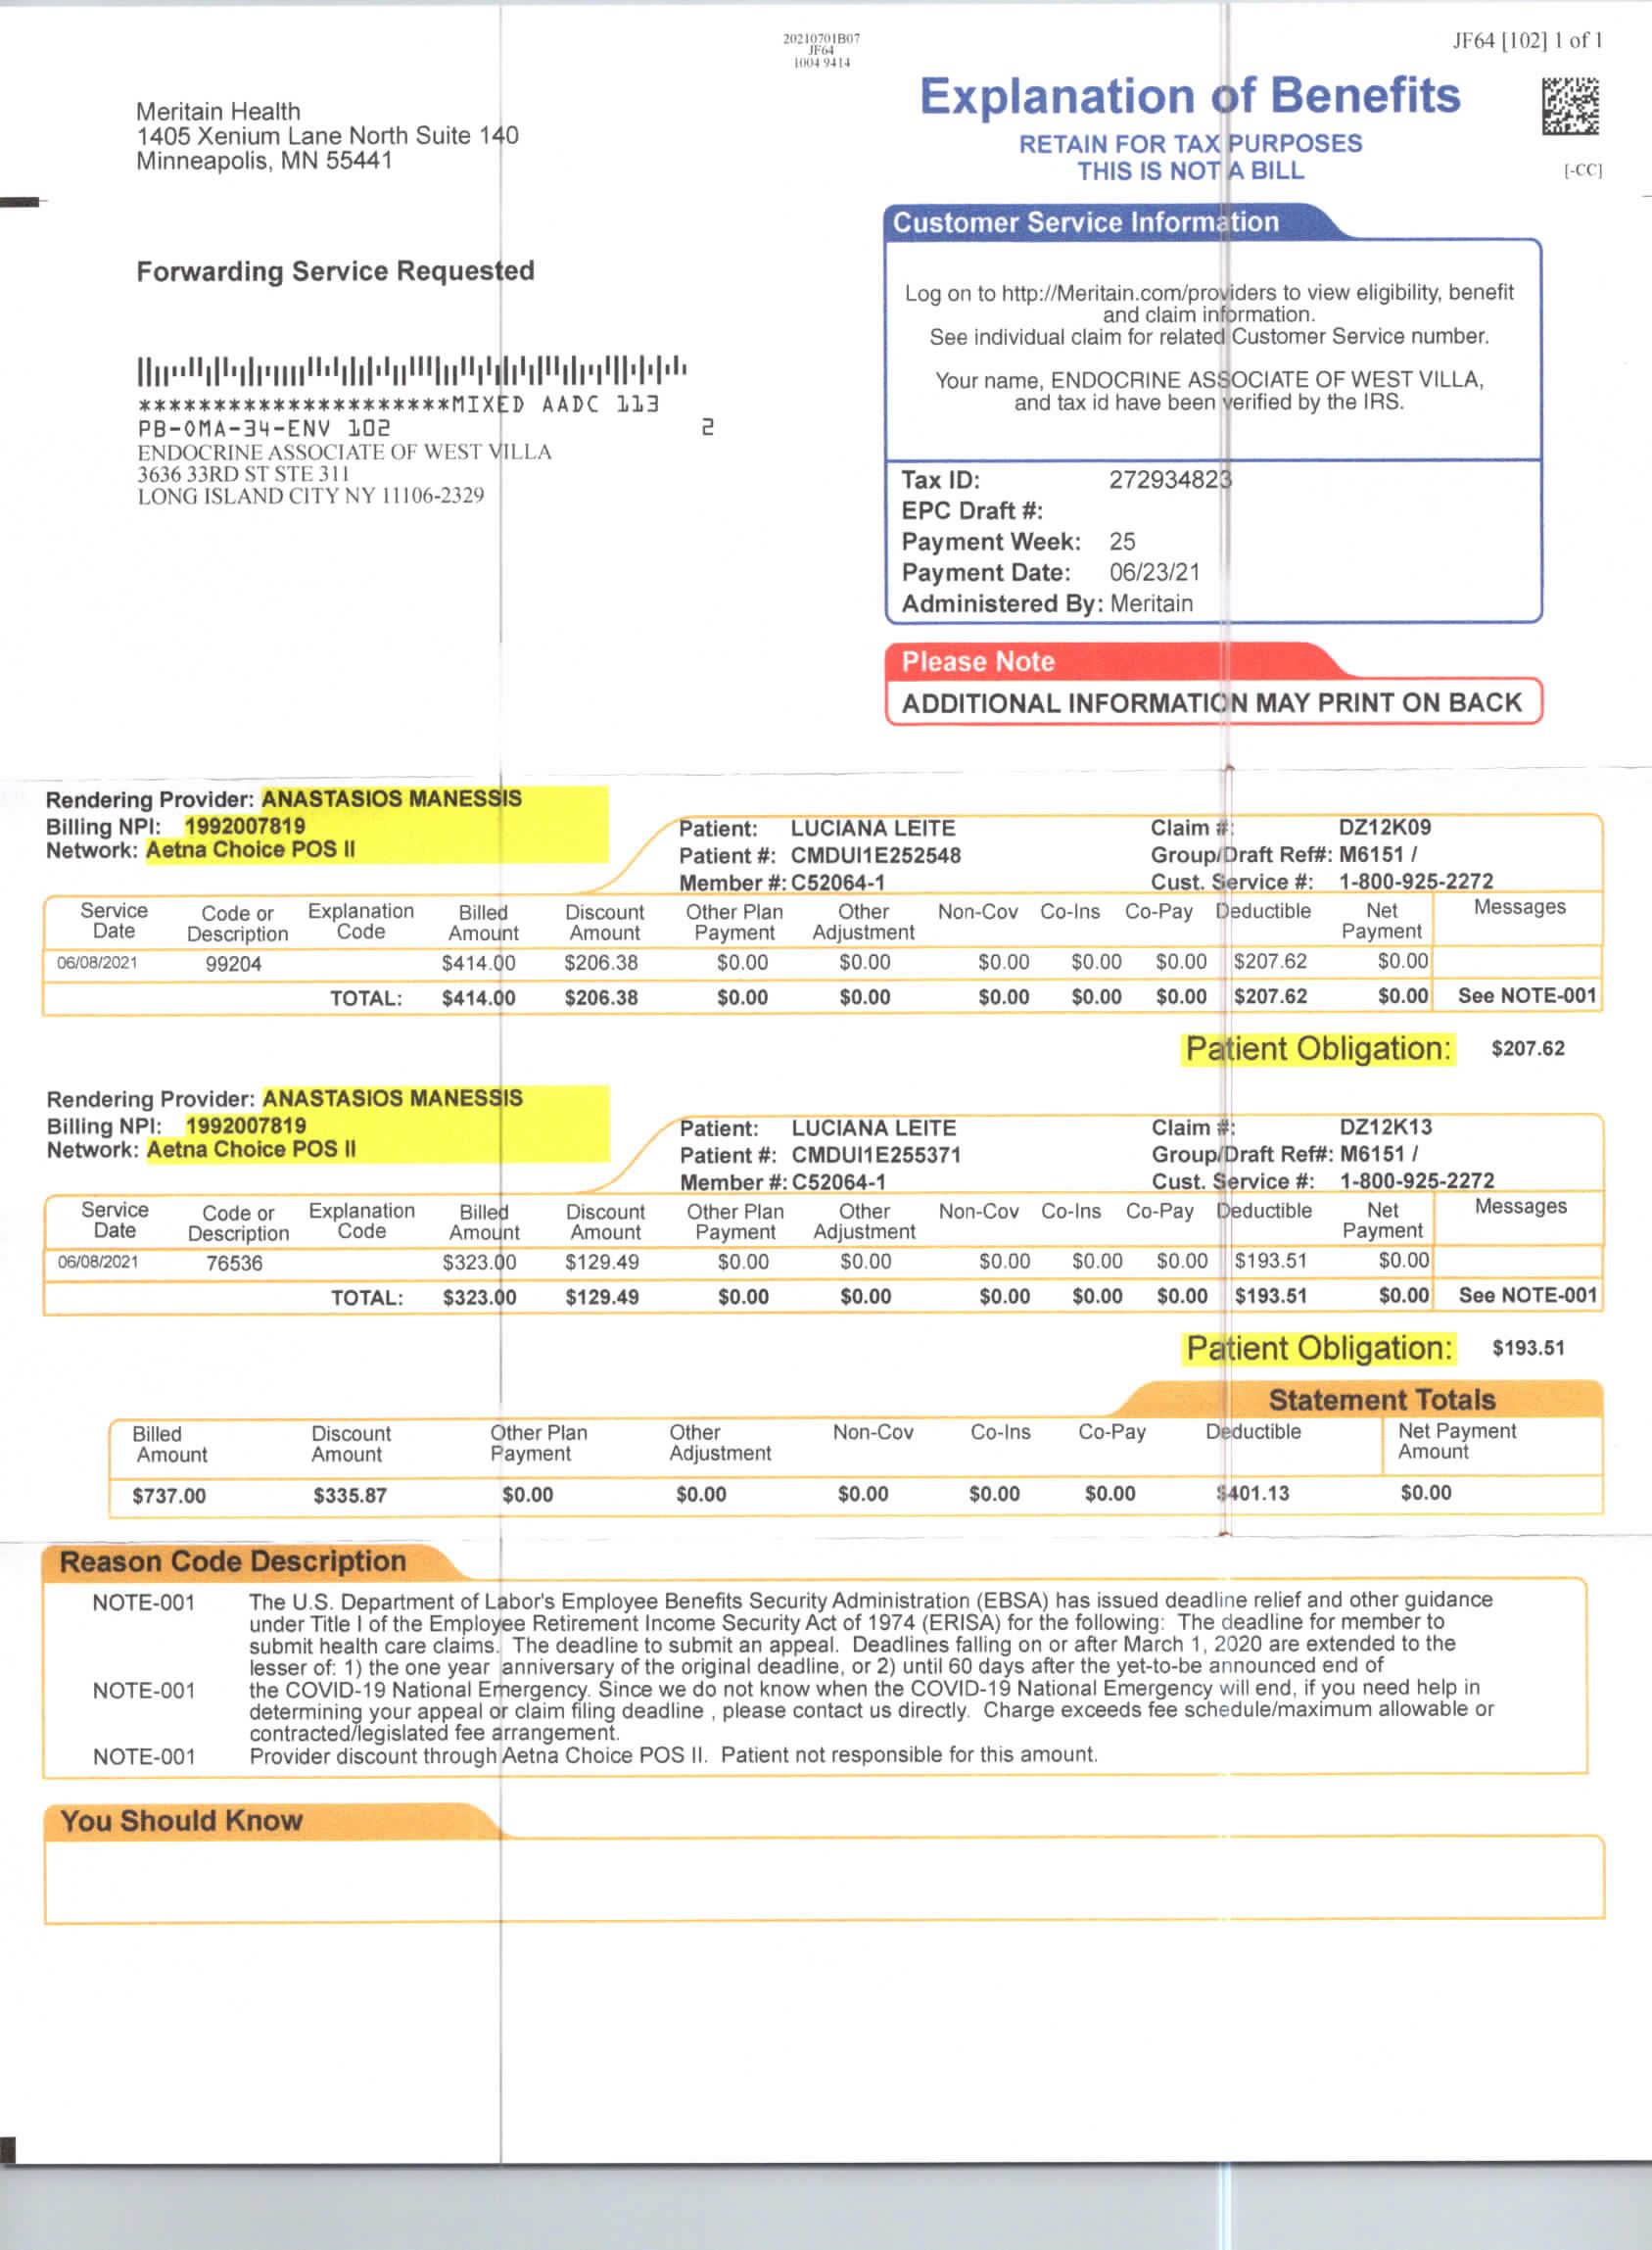data: (877, 199, 1552, 634), (38, 769, 611, 875), (44, 1080, 629, 1179), (1135, 1111, 1505, 1195), (1153, 811, 1493, 896), (672, 807, 971, 893), (671, 1111, 964, 1190)
table: (42, 886, 1621, 1025), (38, 1179, 1617, 1319), (98, 1410, 1631, 1522)
